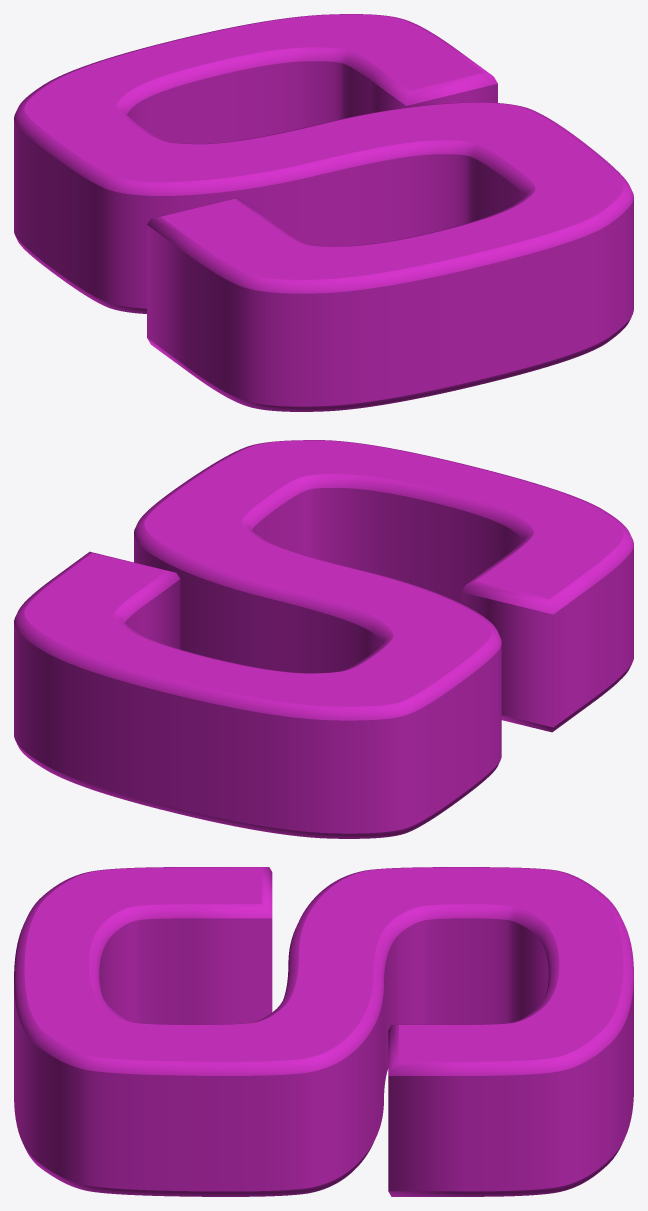
The model's file is Letter_s_CoolFont.fbx.
3 renders of one model, top to bottom at view 1: azimuth 30°, elevation 25°; view 2: azimuth 150°, elevation 25°; view 3: azimuth 270°, elevation 25°, orthographic. The views are drawn at different scales.
Visible parts, largest first — view 1: Letter_s; view 2: Letter_s; view 3: Letter_s.
Part boxes in pixels (x1,y1,x2,y2): Letter_s: [14, 14, 633, 411]; Letter_s: [14, 440, 633, 838]; Letter_s: [14, 867, 633, 1196].
Size of the model in its own units: 0.4537 by 0.14 by 0.5841.
